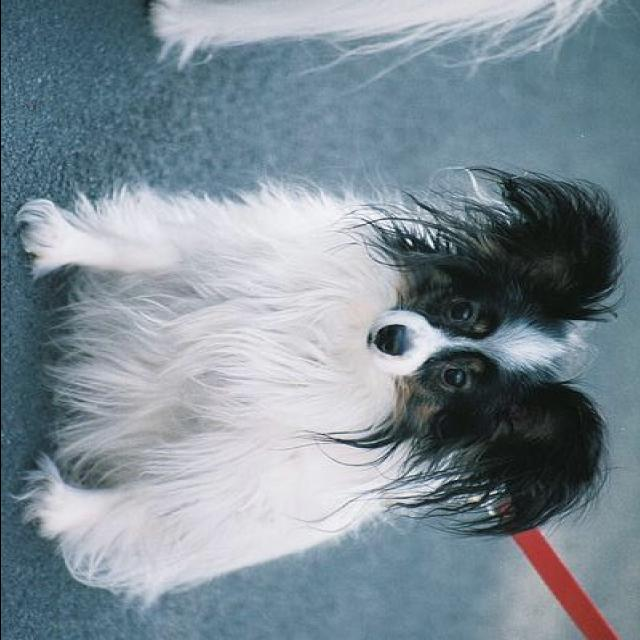papillon: (20, 166, 618, 594)
